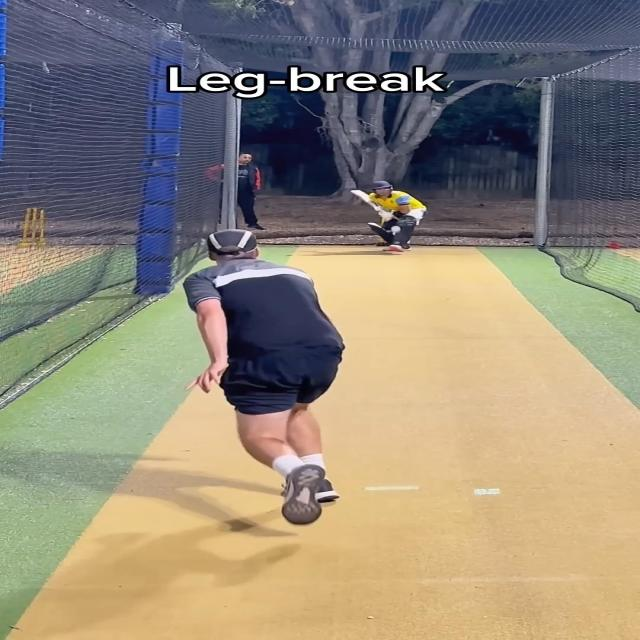Cricket ball: (390, 225, 402, 233)
